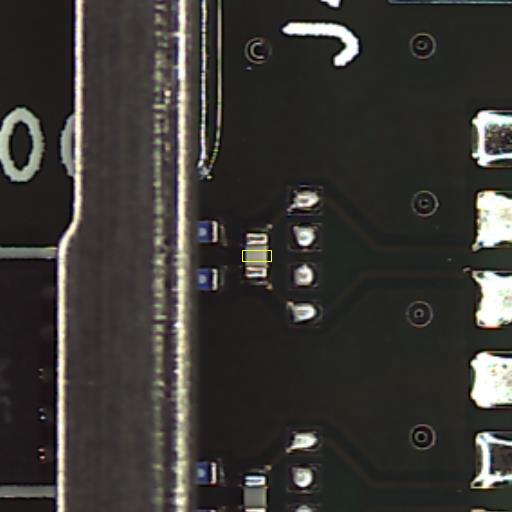bottom_layer: (243, 228, 270, 285), (242, 469, 270, 512)
top_layer: (245, 233, 268, 277), (244, 475, 266, 512)
